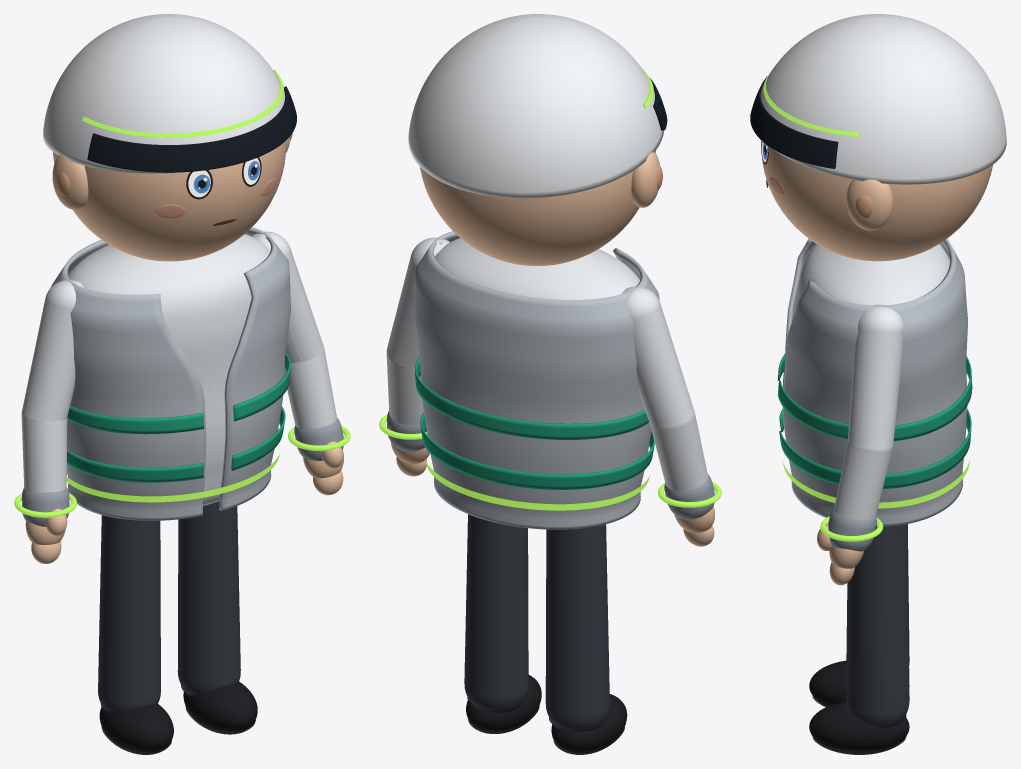
Rendered from bewaker_b.glb.
The picture shows the model from 3 angles, left to right: view 1: azimuth 30°, elevation 25°; view 2: azimuth 150°, elevation 25°; view 3: azimuth 270°, elevation 25°; orthographic projection.
Visible parts, largest first — view 1: bewaker_b_hesje, bewaker_b_helm, bewaker_b_romp, bewaker_b_hoofd, bewaker_b_been_R, bewaker_b_been_L, bewaker_b_helm_vizier, bewaker_b_bovenarm_R, bewaker_b_hesje_band1, bewaker_b_onderarm_R, bewaker_b_hesje_band0, bewaker_b_onderarm_L (+8 smaller); view 2: bewaker_b_hesje, bewaker_b_helm, bewaker_b_been_R, bewaker_b_hoofd, bewaker_b_been_L, bewaker_b_romp, bewaker_b_bovenarm_R, bewaker_b_hesje_band1, bewaker_b_hesje_band0, bewaker_b_onderarm_R, bewaker_b_bovenarm_L, bewaker_b_schoen_R (+6 smaller); view 3: bewaker_b_helm, bewaker_b_hesje, bewaker_b_hoofd, bewaker_b_been_L, bewaker_b_bovenarm_L, bewaker_b_romp, bewaker_b_onderarm_L, bewaker_b_schoen_L, bewaker_b_hesje_band1, bewaker_b_helm_vizier, bewaker_b_hesje_band0, bewaker_b_oor_L (+6 smaller).
Boxes of the visible parts, x1,y1,x2,y2 form: bewaker_b_hesje: (50,227,290,520); bewaker_b_helm: (43,14,285,173); bewaker_b_romp: (68,234,270,505); bewaker_b_hoofd: (53,141,286,261); bewaker_b_been_R: (98,515,160,711); bewaker_b_been_L: (177,501,240,694); bewaker_b_helm_vizier: (87,86,296,172); bewaker_b_bovenarm_R: (22,279,83,421); bewaker_b_hesje_band1: (67,353,290,434); bewaker_b_onderarm_R: (21,414,67,492); bewaker_b_hesje_band0: (67,406,285,482); bewaker_b_onderarm_L: (284,349,336,429); bewaker_b_hesje: (413,231,659,529); bewaker_b_helm: (408,14,664,198); bewaker_b_been_R: (545,524,609,729); bewaker_b_hoofd: (419,150,655,265); bewaker_b_been_L: (464,514,528,710); bewaker_b_romp: (435,238,639,299); bewaker_b_bovenarm_R: (622,286,694,430); bewaker_b_hesje_band1: (415,357,648,439); bewaker_b_hesje_band0: (420,412,654,489); bewaker_b_onderarm_R: (650,413,707,491); bewaker_b_bovenarm_L: (387,237,449,366); bewaker_b_schoen_R: (551,694,627,752); bewaker_b_helm: (760,14,1006,184); bewaker_b_hesje: (782,238,967,526); bewaker_b_hoofd: (761,140,992,261); bewaker_b_been_L: (846,524,909,726); bewaker_b_bovenarm_L: (847,304,903,453); bewaker_b_romp: (795,243,949,310); bewaker_b_onderarm_L: (834,442,892,520); bewaker_b_schoen_L: (809,701,909,750); bewaker_b_hesje_band1: (777,353,972,440); bewaker_b_helm_vizier: (750,76,838,168); bewaker_b_hesje_band0: (779,409,971,488); bewaker_b_oor_L: (846,179,893,230).
Bounding box in the file's own units: 0.9144 × 1.88 × 0.6187.
